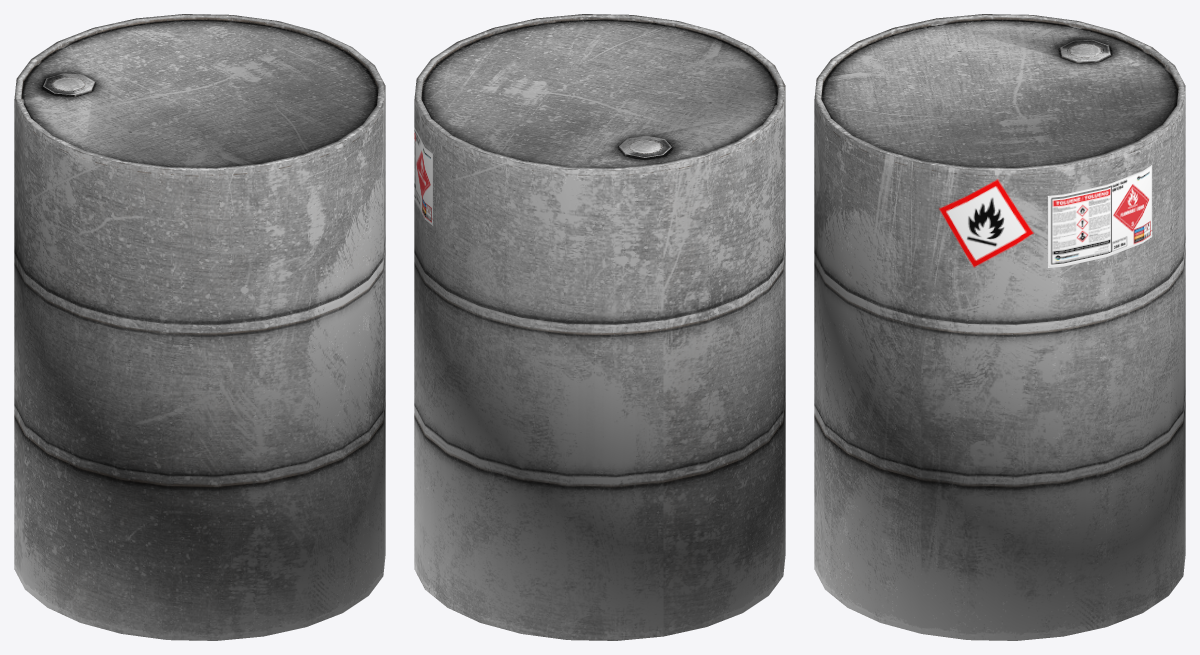
The model's file is barelWhite.fbx.
3 renders of one model, left to right at view 1: azimuth 30°, elevation 25°; view 2: azimuth 150°, elevation 25°; view 3: azimuth 270°, elevation 25°, orthographic.
Visible parts, largest first — view 1: Barrel04_0; view 2: Barrel04_0; view 3: Barrel04_0.
Part boxes in pixels (left/top/right/bottom): Barrel04_0: left=14, top=14, right=385, bottom=640; Barrel04_0: left=414, top=14, right=785, bottom=640; Barrel04_0: left=814, top=14, right=1185, bottom=640.
Size of the model in its own units: 220 by 307 by 220.
